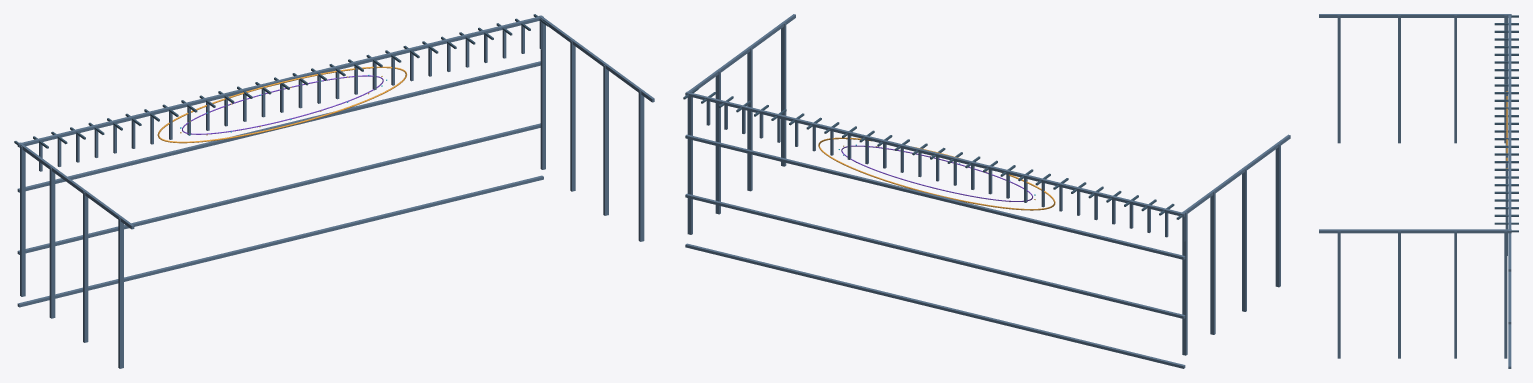
The model's file is 01_L83_PanoramicOrbitShadowDome.fbx.
The picture shows the model from 3 angles, left to right: view 1: azimuth 30°, elevation 25°; view 2: azimuth 150°, elevation 25°; view 3: azimuth 270°, elevation 25°; orthographic projection. The views are drawn at different scales.
Visible parts, largest first — view 1: PanoramicOrbitShadowDome; view 2: PanoramicOrbitShadowDome; view 3: PanoramicOrbitShadowDome.
Part boxes in pixels (box(x1,y1,x2,y2)): PanoramicOrbitShadowDome: box(14, 14, 654, 368); PanoramicOrbitShadowDome: box(683, 14, 1290, 368); PanoramicOrbitShadowDome: box(1319, 14, 1518, 368).
Bounding box in the file's own units: 2560 × 760 × 995.
